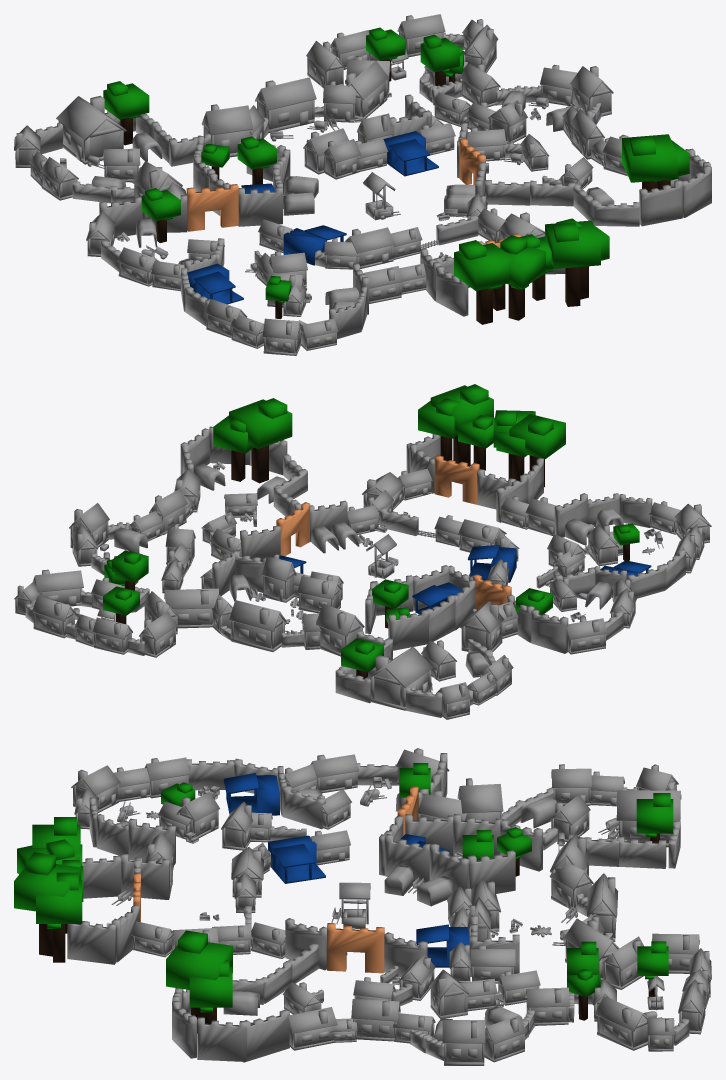
Rendered from Level 2 blockout.FBX.
3 renders of one model, top to bottom at view 1: azimuth 30°, elevation 25°; view 2: azimuth 150°, elevation 25°; view 3: azimuth 270°, elevation 25°, orthographic. The views are drawn at different scales.
Visible parts, largest first — view 1: Box488, Box404, Box406, Box437, Box423, Box408, Box005, Box483, Box489, Box334, Box382, Box462 (+74 smaller); view 2: Box423, Box488, Box437, Box404, Box406, Box462, Box483, Box491, Box365, Box403, Box422, Box447 (+84 smaller); view 3: Box423, Box404, Box403, Box373, Box447, Box066, Box384, Box477, Box367, Box346, Box388, Box422 (+92 smaller).
Part boxes in pixels (x1,y1,x2,y2): Box488: (56, 95, 126, 164); Box404: (545, 220, 600, 306); Box406: (454, 240, 514, 324); Box437: (255, 77, 316, 132); Box423: (622, 134, 677, 191); Box408: (500, 235, 545, 320); Box005: (186, 184, 238, 231); Box483: (201, 104, 253, 157); Box489: (103, 81, 149, 145); Box334: (383, 131, 438, 176); Box382: (639, 180, 682, 226); Box462: (346, 60, 388, 119); Box423: (229, 398, 292, 483); Box488: (367, 646, 433, 710); Box437: (229, 600, 286, 651); Box404: (430, 384, 493, 466); Box406: (509, 414, 565, 487); Box462: (164, 588, 218, 628); Box483: (316, 604, 364, 656); Box491: (460, 601, 504, 651); Box365: (434, 455, 479, 504); Box403: (418, 398, 460, 460); Box422: (213, 415, 253, 481); Box447: (33, 569, 83, 606); Box423: (166, 930, 232, 1033); Box404: (14, 852, 81, 956); Box403: (36, 872, 82, 962); Box373: (327, 923, 384, 973); Box447: (595, 996, 647, 1050); Box066: (268, 835, 325, 883); Box384: (197, 1017, 246, 1061); Box477: (442, 1020, 485, 1065); Box367: (67, 921, 116, 964); Box346: (223, 773, 279, 815); Box388: (351, 999, 400, 1041); Box422: (189, 960, 232, 1023).
Size of the model in its own units: 10678 by 1521 by 10848.
